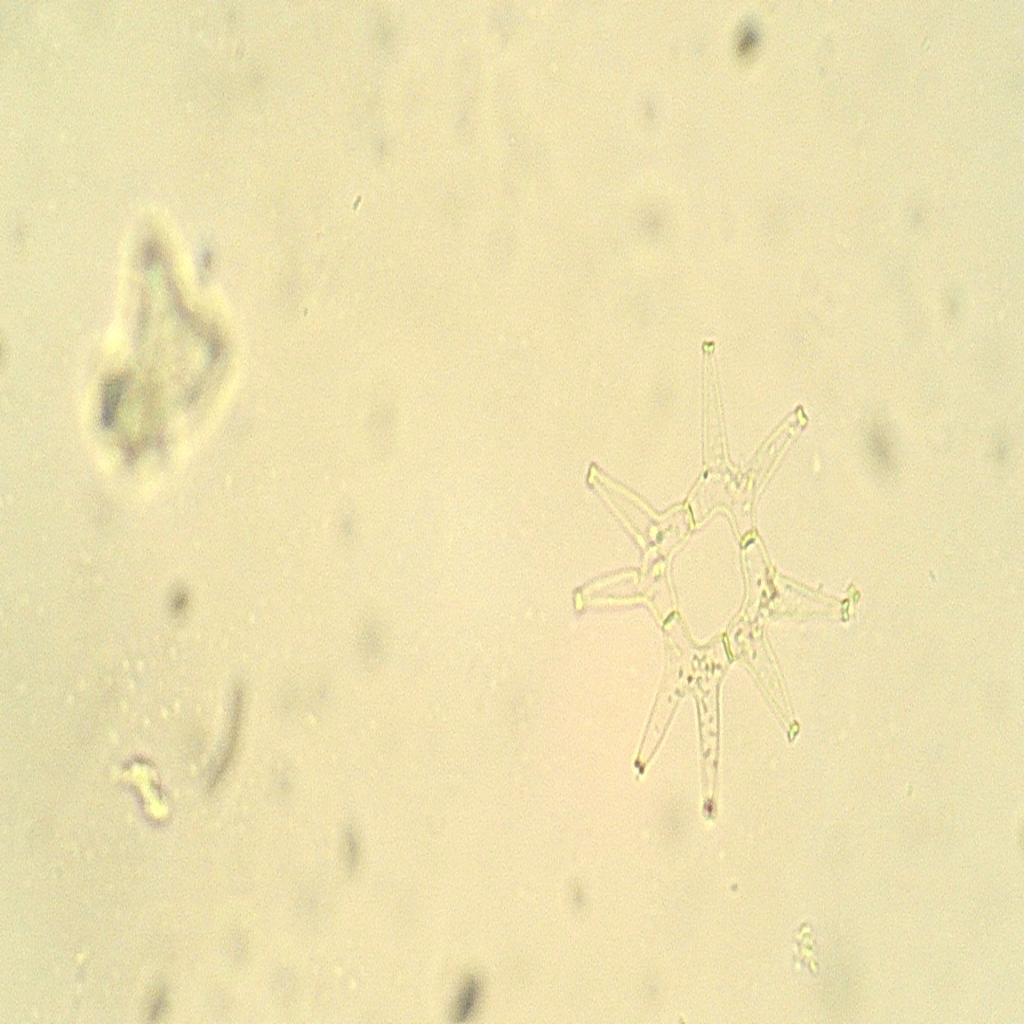Pediastrum_1F0: (546, 304, 883, 862)
